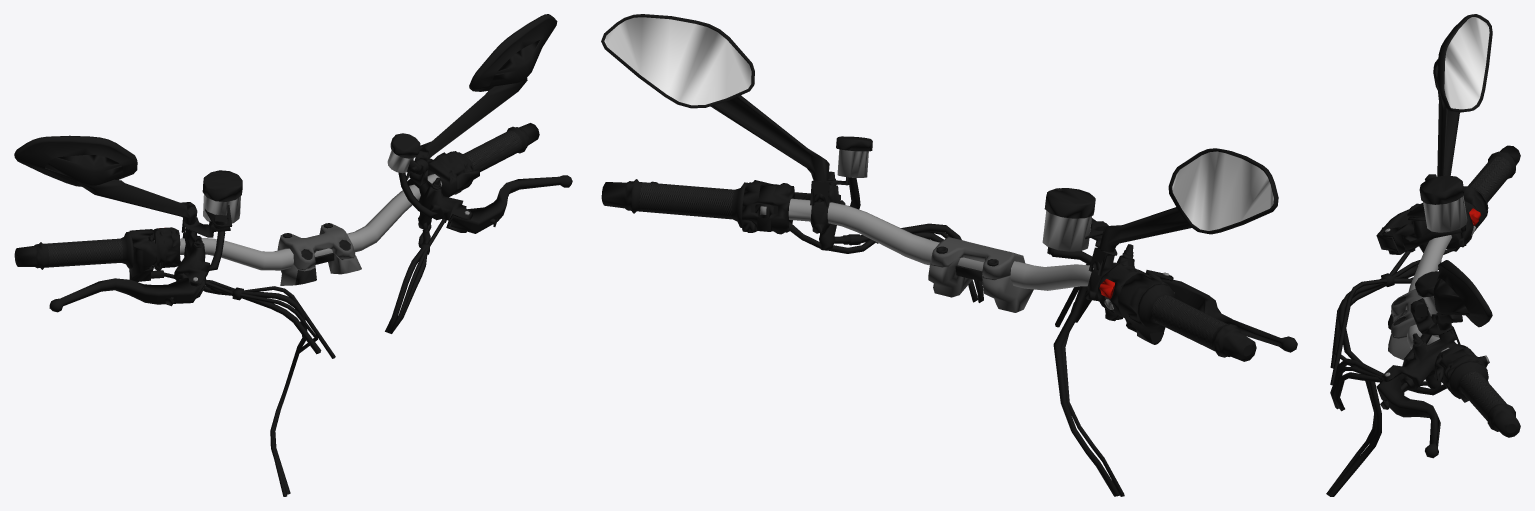
The model's file is Handlebar_Normal.glb.
The picture shows the model from 3 angles, left to right: view 1: azimuth 30°, elevation 25°; view 2: azimuth 150°, elevation 25°; view 3: azimuth 270°, elevation 25°; orthographic projection. The views are drawn at different scales.
Visible parts, largest first — view 1: Object_32.001; view 2: Object_32.001; view 3: Object_32.001.
Boxes of the visible parts, box(x1,y1,x2,y2) form: Object_32.001: box(14, 14, 572, 496); Object_32.001: box(601, 14, 1297, 496); Object_32.001: box(1326, 14, 1520, 496).
Bounding box in the file's own units: 0.8847 × 0.5546 × 0.2532.
7 materials, 1 textured.
